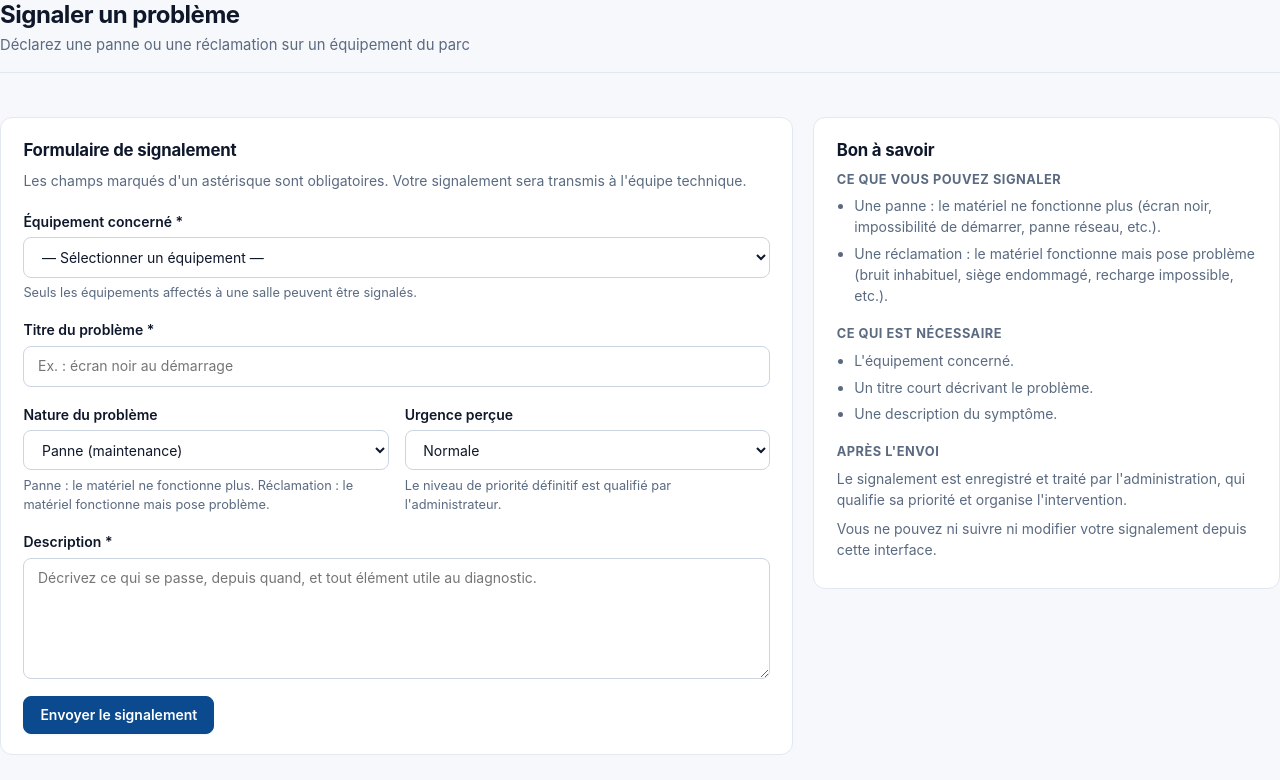
TicketPublic.vue › validation et soumission › affiche une erreur sous la description lorsqu'elle est vide
Select "Vidéoprojecteur — INV-001" in the dropdown with id "equipement" at x=397, y=258, box [23,237,770,278]
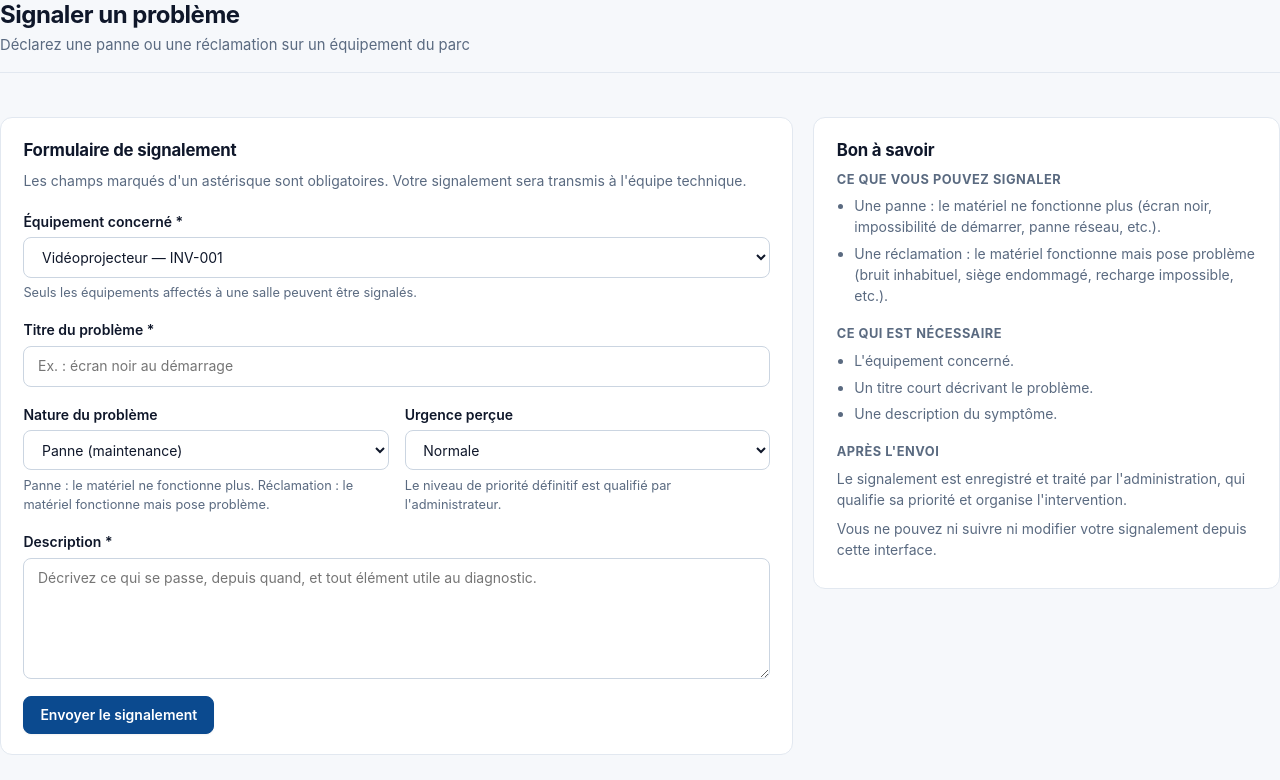
Type "Écran noir" into the field with id "titre" at x=397, y=366, box [23,346,770,387]
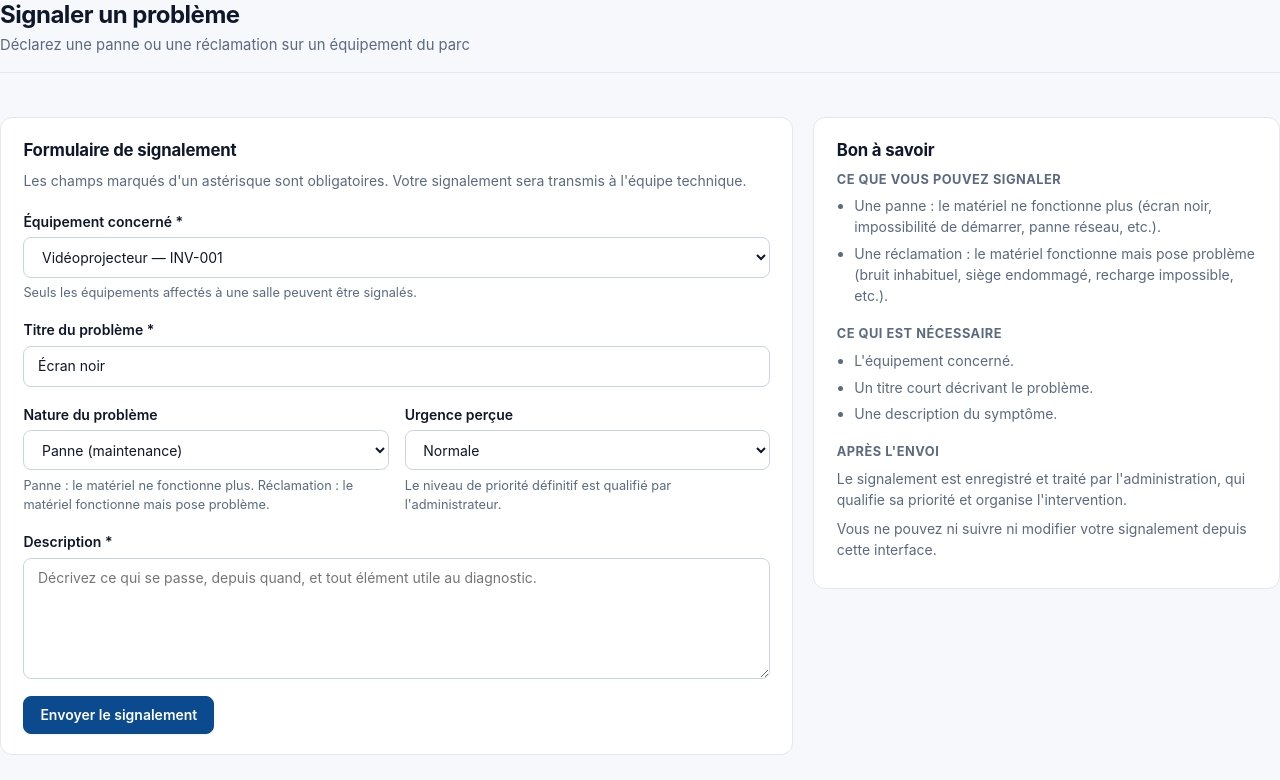
Submit the form, box [23,211,770,734]
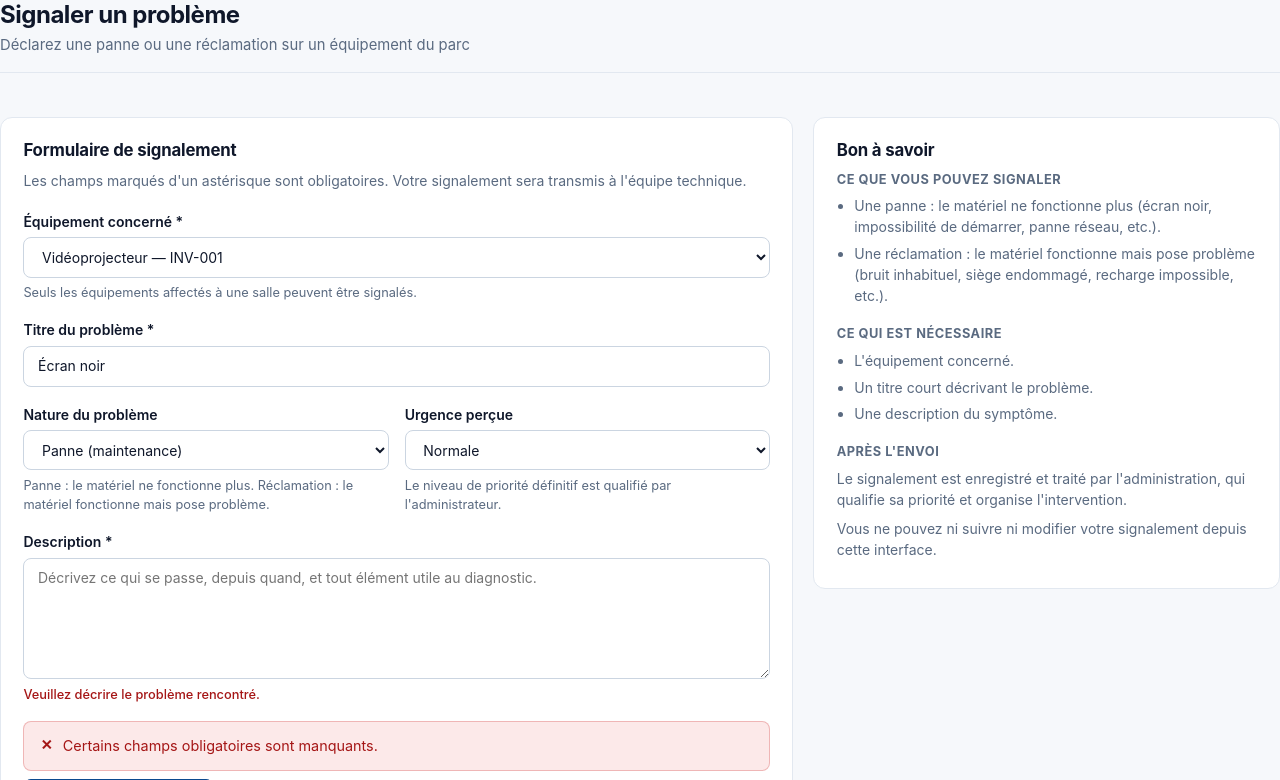
Expected: the text with id "erreur-description" reads "Veuillez décrire le problème rencontré.", [23,687,260,702]
